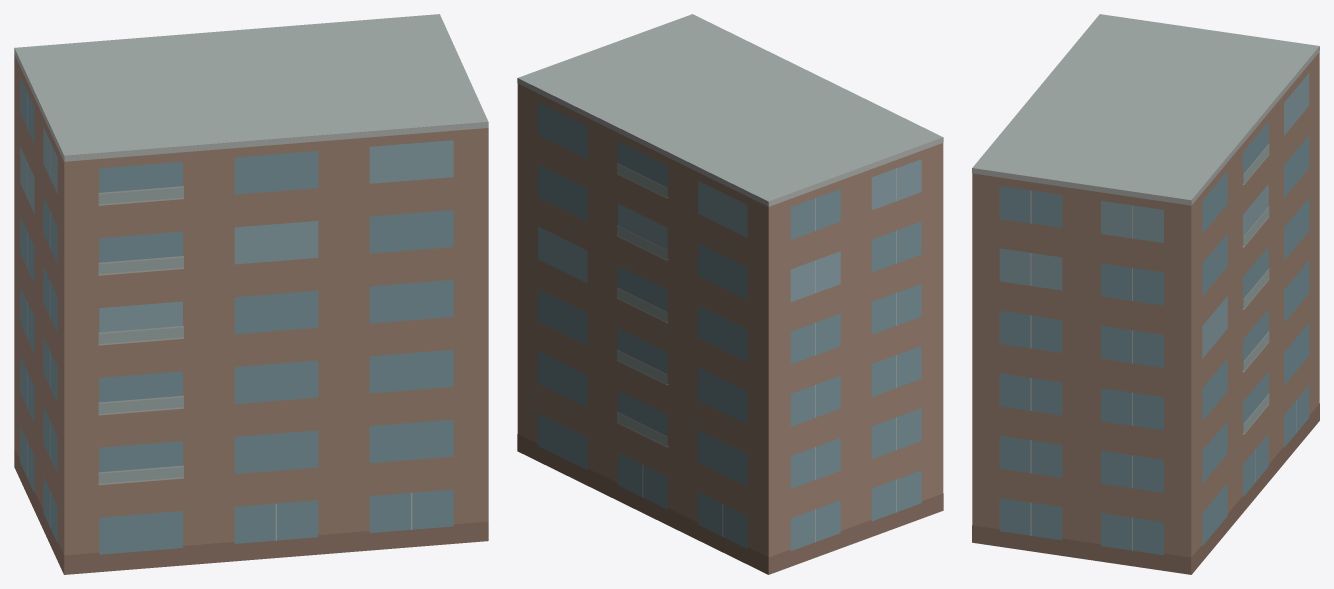
The model's file is survey-upis-32702022.glb.
3 views of the same model, side by side, from view 1: azimuth 30°, elevation 25°; view 2: azimuth 150°, elevation 25°; view 3: azimuth 270°, elevation 25° (orthographic). The views are drawn at different scales.
Parts seen in each view (by area): view 1: survey-upis-32702022.tmp; view 2: survey-upis-32702022.tmp; view 3: survey-upis-32702022.tmp.
Part boxes in pixels (x1,y1,x2,y2): survey-upis-32702022.tmp: [14, 14, 488, 574]; survey-upis-32702022.tmp: [517, 14, 943, 574]; survey-upis-32702022.tmp: [972, 14, 1319, 574].
Size of the model in its own units: 18.03 by 16.9 by 14.22.
